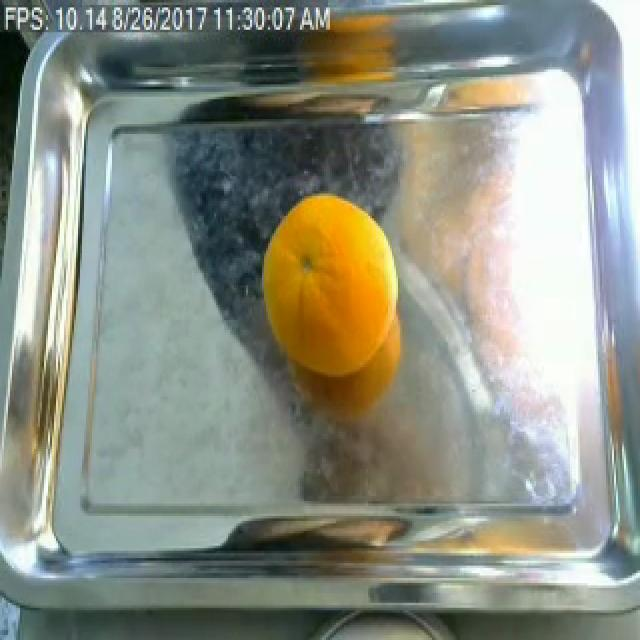Fruit: (388, 106, 524, 406), (258, 184, 410, 426)
